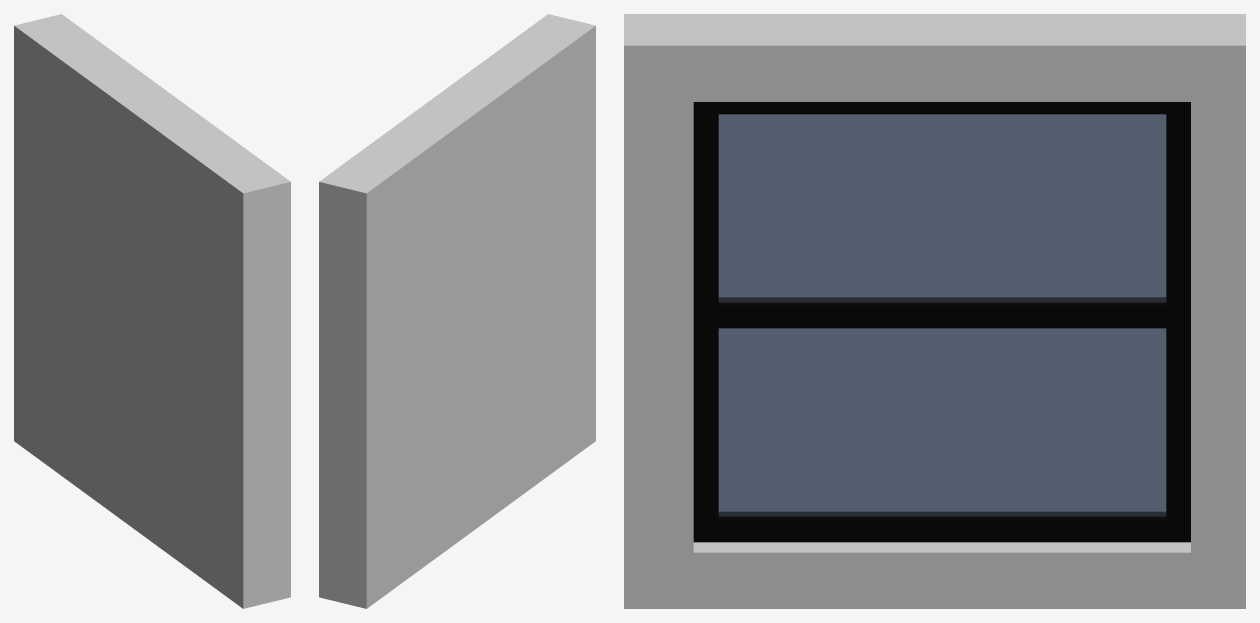
File: house_wallwindow3center.glb
The picture shows the model from 3 angles, left to right: view 1: azimuth 30°, elevation 25°; view 2: azimuth 150°, elevation 25°; view 3: azimuth 270°, elevation 25°; orthographic projection. The views are drawn at different scales.
Parts seen in each view (by area): view 1: WallWindow3Center; view 2: WallWindow3Center; view 3: WallWindow3Center.
Part boxes in pixels (x1,y1,x2,y2): WallWindow3Center: (14,14,290,608); WallWindow3Center: (319,14,595,608); WallWindow3Center: (624,14,1245,608).
Bounding box in the file's own units: 30 × 250 × 250.
